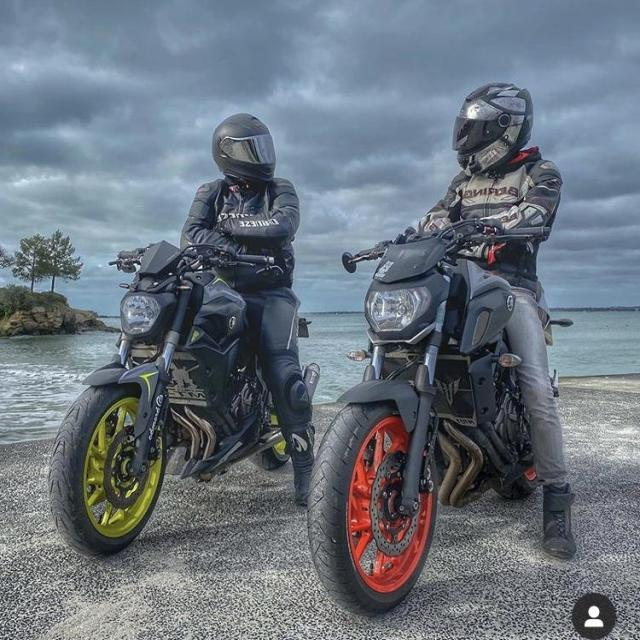helmet: (459, 68, 528, 168), (206, 114, 284, 186)
